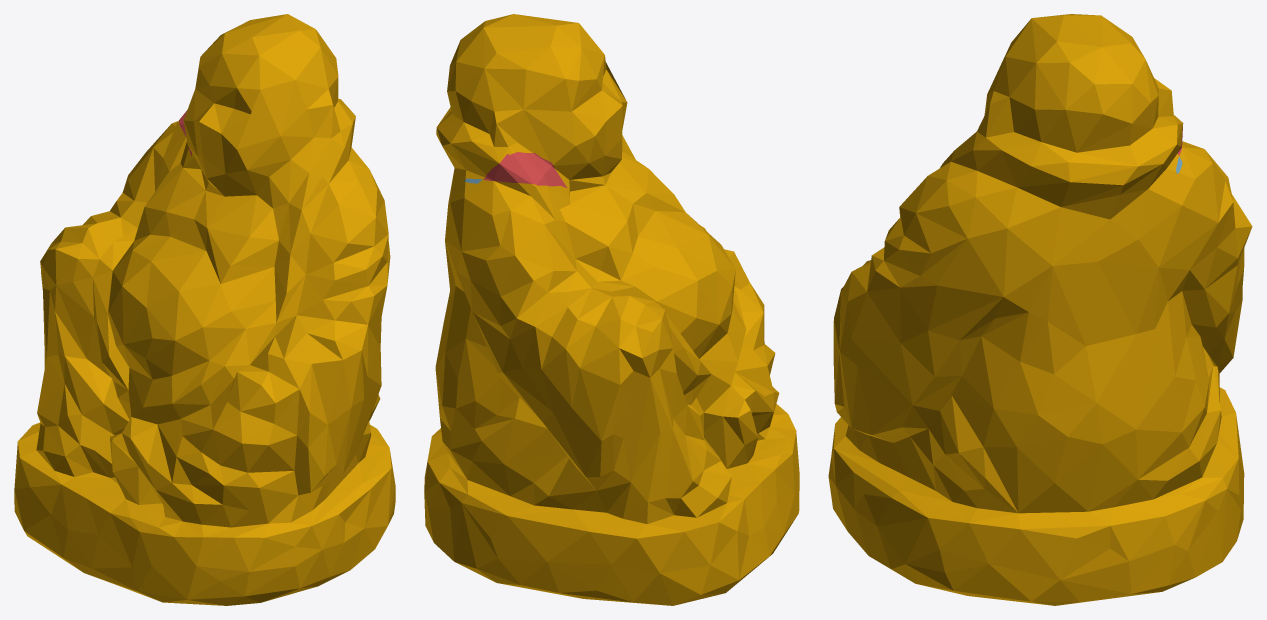
The model's file is fractured_69_4pcs.glb.
3 views of the same model, side by side, from view 1: azimuth 30°, elevation 25°; view 2: azimuth 150°, elevation 25°; view 3: azimuth 270°, elevation 25° (orthographic). The views are drawn at different scales.
Parts seen in each view (by area): view 1: piece_0.obj; view 2: piece_0.obj, piece_1.obj; view 3: piece_0.obj.
Part boxes in pixels (<box>): piece_0.obj: <box>14,14,395,605</box>; piece_0.obj: <box>424,14,799,605</box>; piece_1.obj: <box>483,152,567,188</box>; piece_0.obj: <box>828,14,1252,605</box>.
Size of the model in its own units: 0.6824 by 1 by 0.7125.
